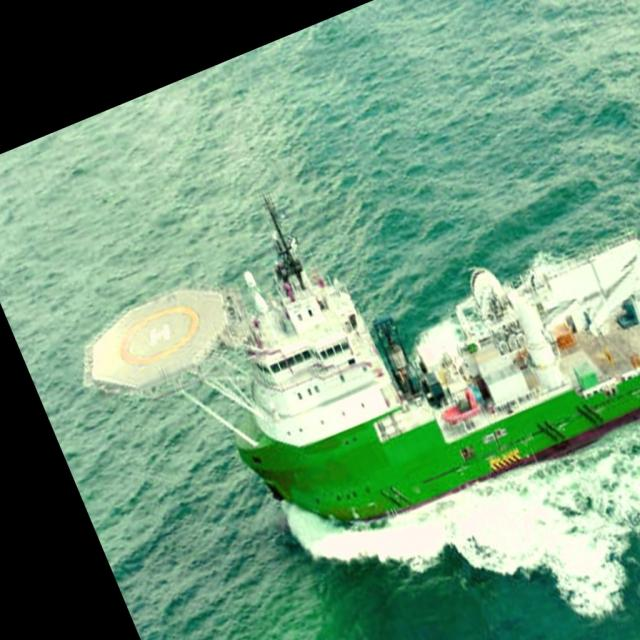helipad: (116, 301, 201, 366)
